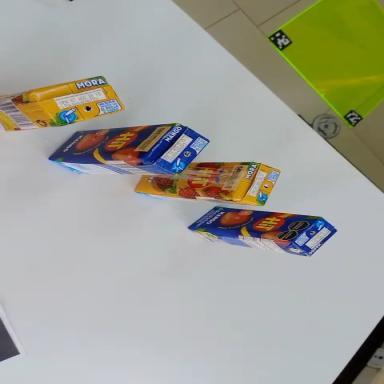HIT-MANGO: (48, 122, 210, 177), (186, 203, 338, 259)
HIT-MORA: (0, 69, 125, 141), (135, 160, 279, 206)
cara_F: (188, 204, 321, 245), (48, 123, 178, 163), (135, 161, 253, 198)
